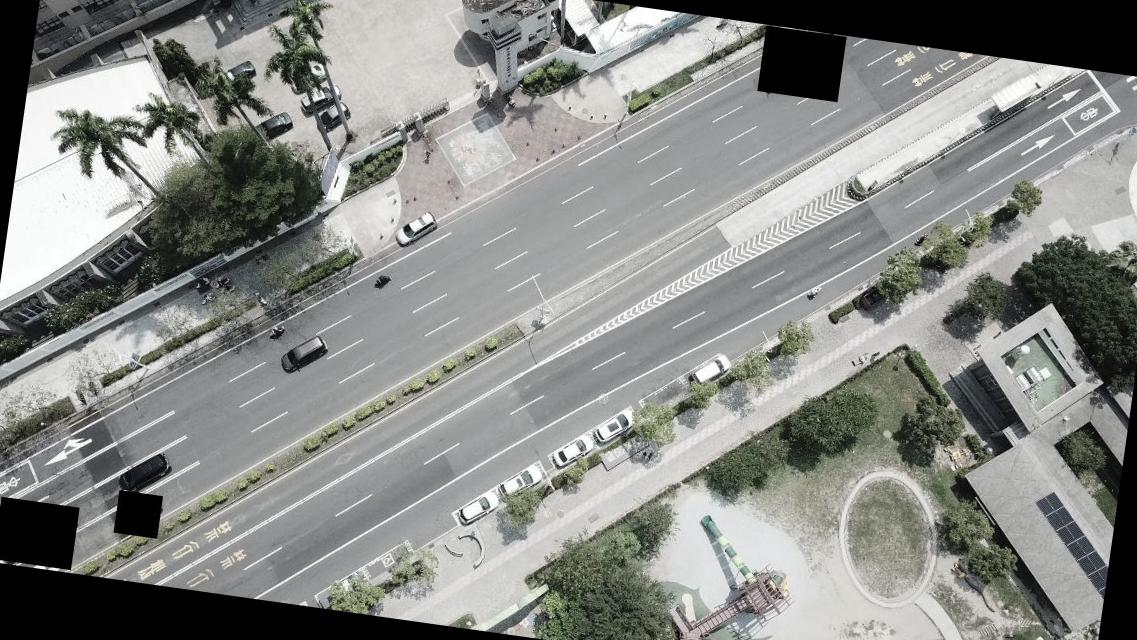vehicle: (118, 449, 169, 502), (277, 332, 325, 382), (454, 486, 502, 532), (548, 431, 595, 473), (592, 402, 633, 450), (396, 208, 440, 252), (500, 460, 544, 504), (690, 348, 731, 392), (300, 81, 344, 118), (246, 106, 292, 140), (215, 57, 258, 93), (288, 61, 329, 95), (316, 102, 350, 136), (0, 504, 17, 552)
